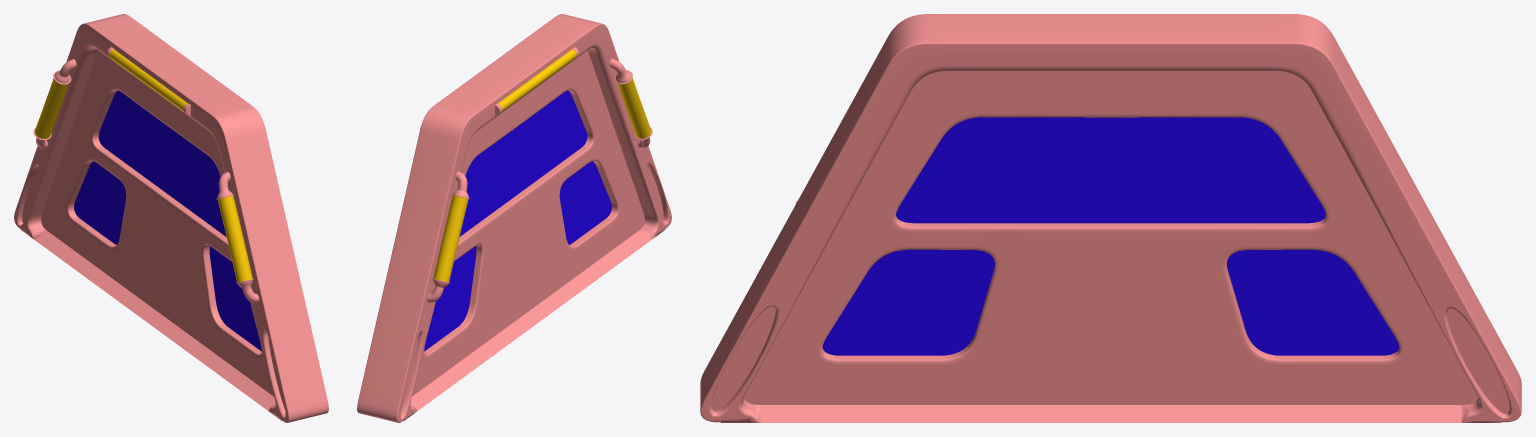
Rendered from big door.FBX.
The picture shows the model from 3 angles, left to right: view 1: azimuth 30°, elevation 25°; view 2: azimuth 150°, elevation 25°; view 3: azimuth 270°, elevation 25°; orthographic projection. The views are drawn at different scales.
Visible parts, largest first — view 1: Door, Gate, Light Right, Light Left, Light up; view 2: Door, Gate, Light Left, Light Right, Light up; view 3: Door, Gate.
Part boxes in pixels (x1,y1,x2,y2): Door: [41, 50, 274, 396]; Gate: [14, 14, 328, 422]; Light Right: [216, 171, 259, 302]; Light Left: [33, 59, 76, 148]; Light up: [106, 47, 190, 115]; Door: [412, 50, 644, 396]; Gate: [357, 14, 671, 422]; Light Left: [427, 171, 469, 302]; Light Right: [609, 58, 652, 148]; Light up: [495, 47, 579, 115]; Door: [743, 71, 1478, 404]; Gate: [700, 14, 1521, 422].
Bounding box in the file's own units: 69.18 × 300 × 588.
